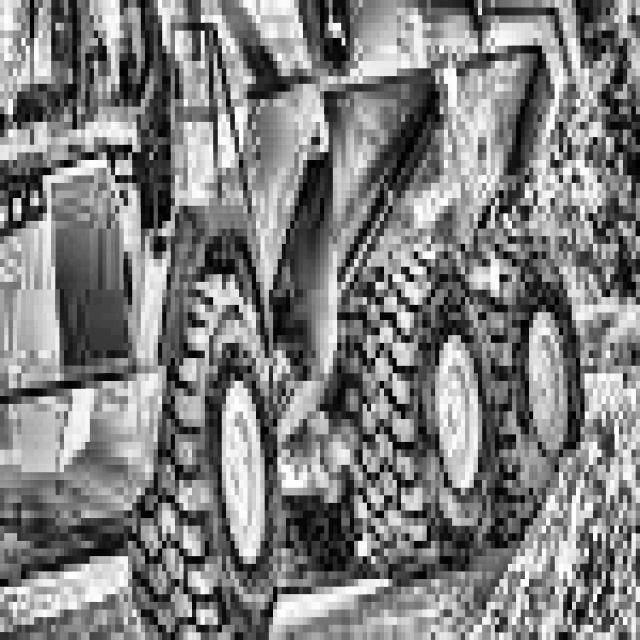dump_truck: (0, 0, 602, 640)
